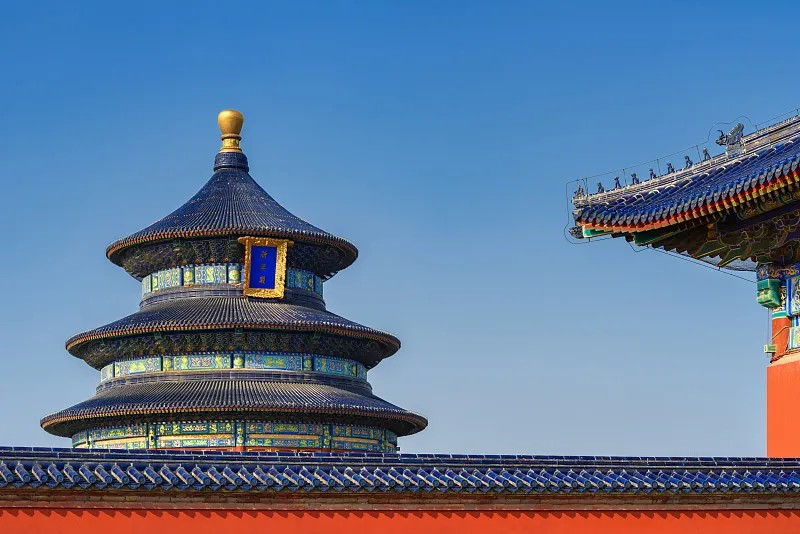Heaven: (40, 109, 428, 453)
